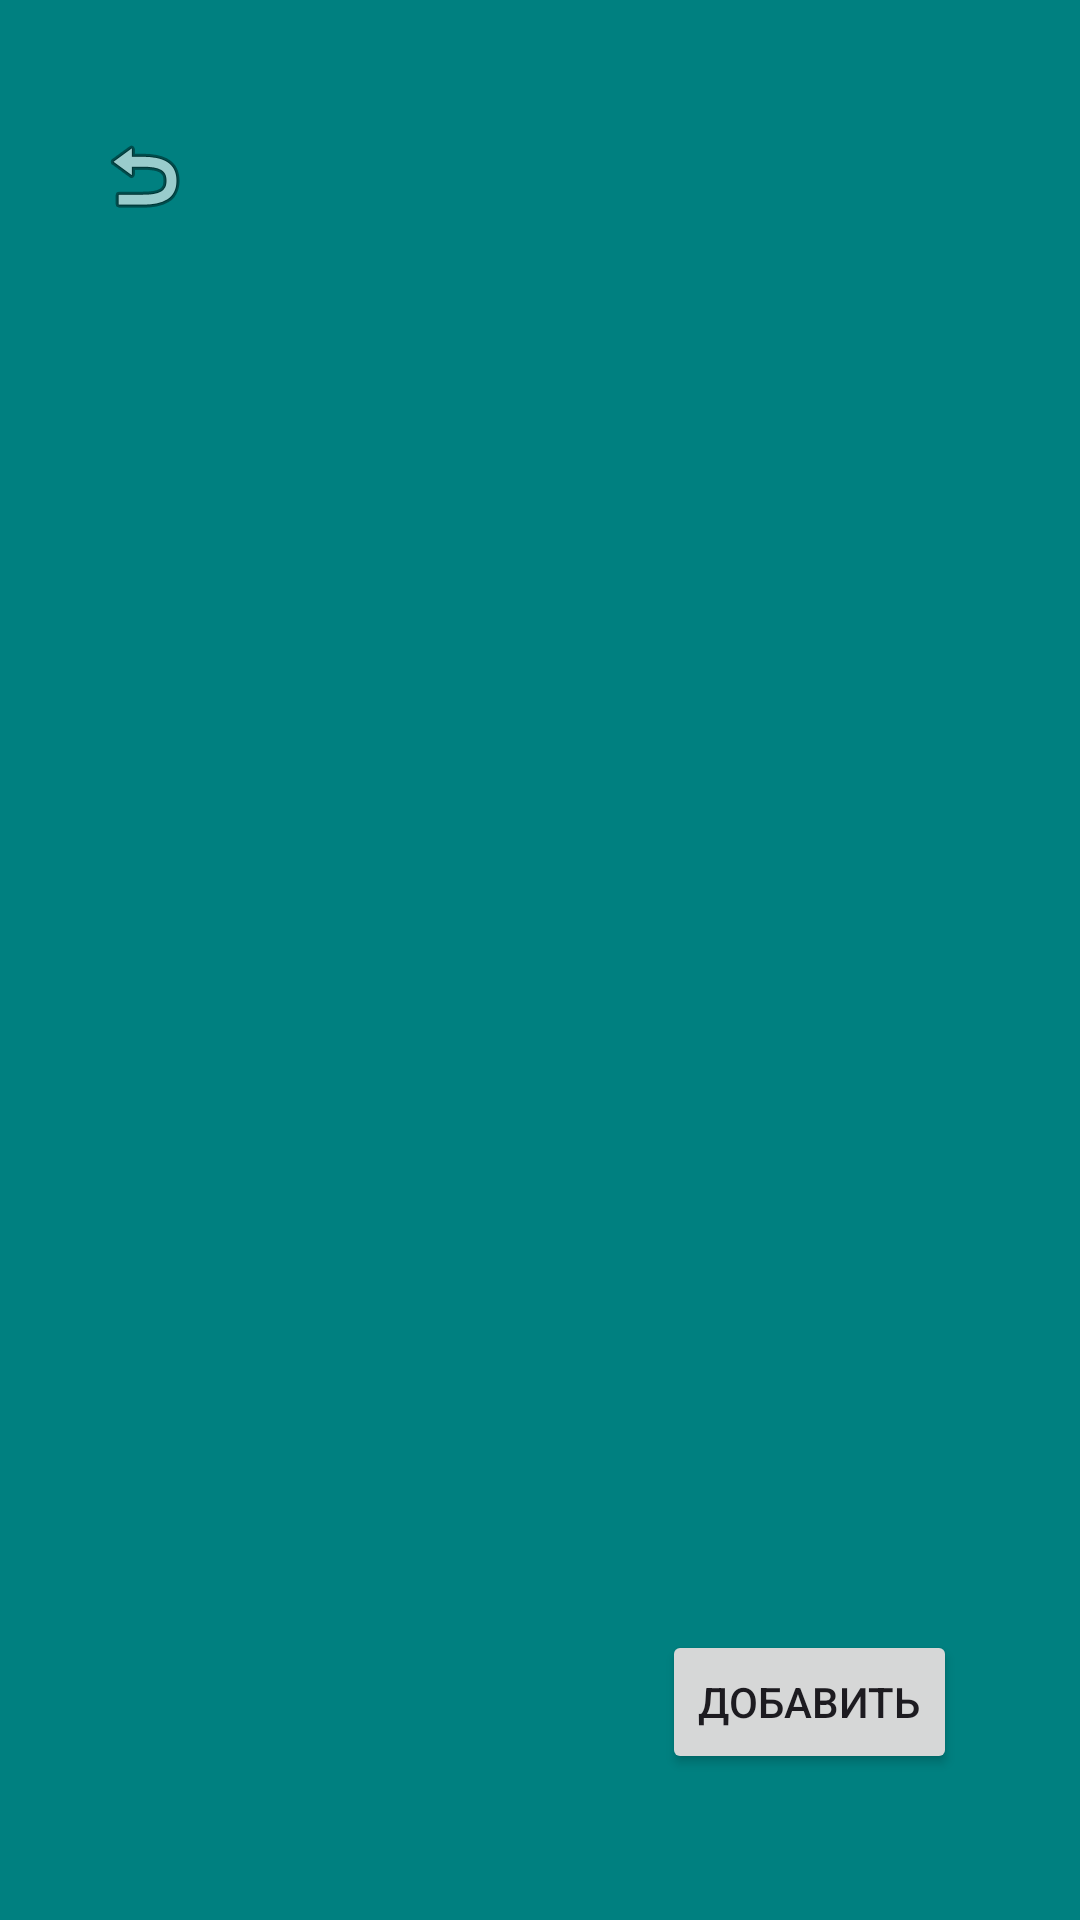

Icons on this 1080 × 1920 Android screen, each with the point to tap as (x=x, y=y):
revert: (x=145, y=177)
